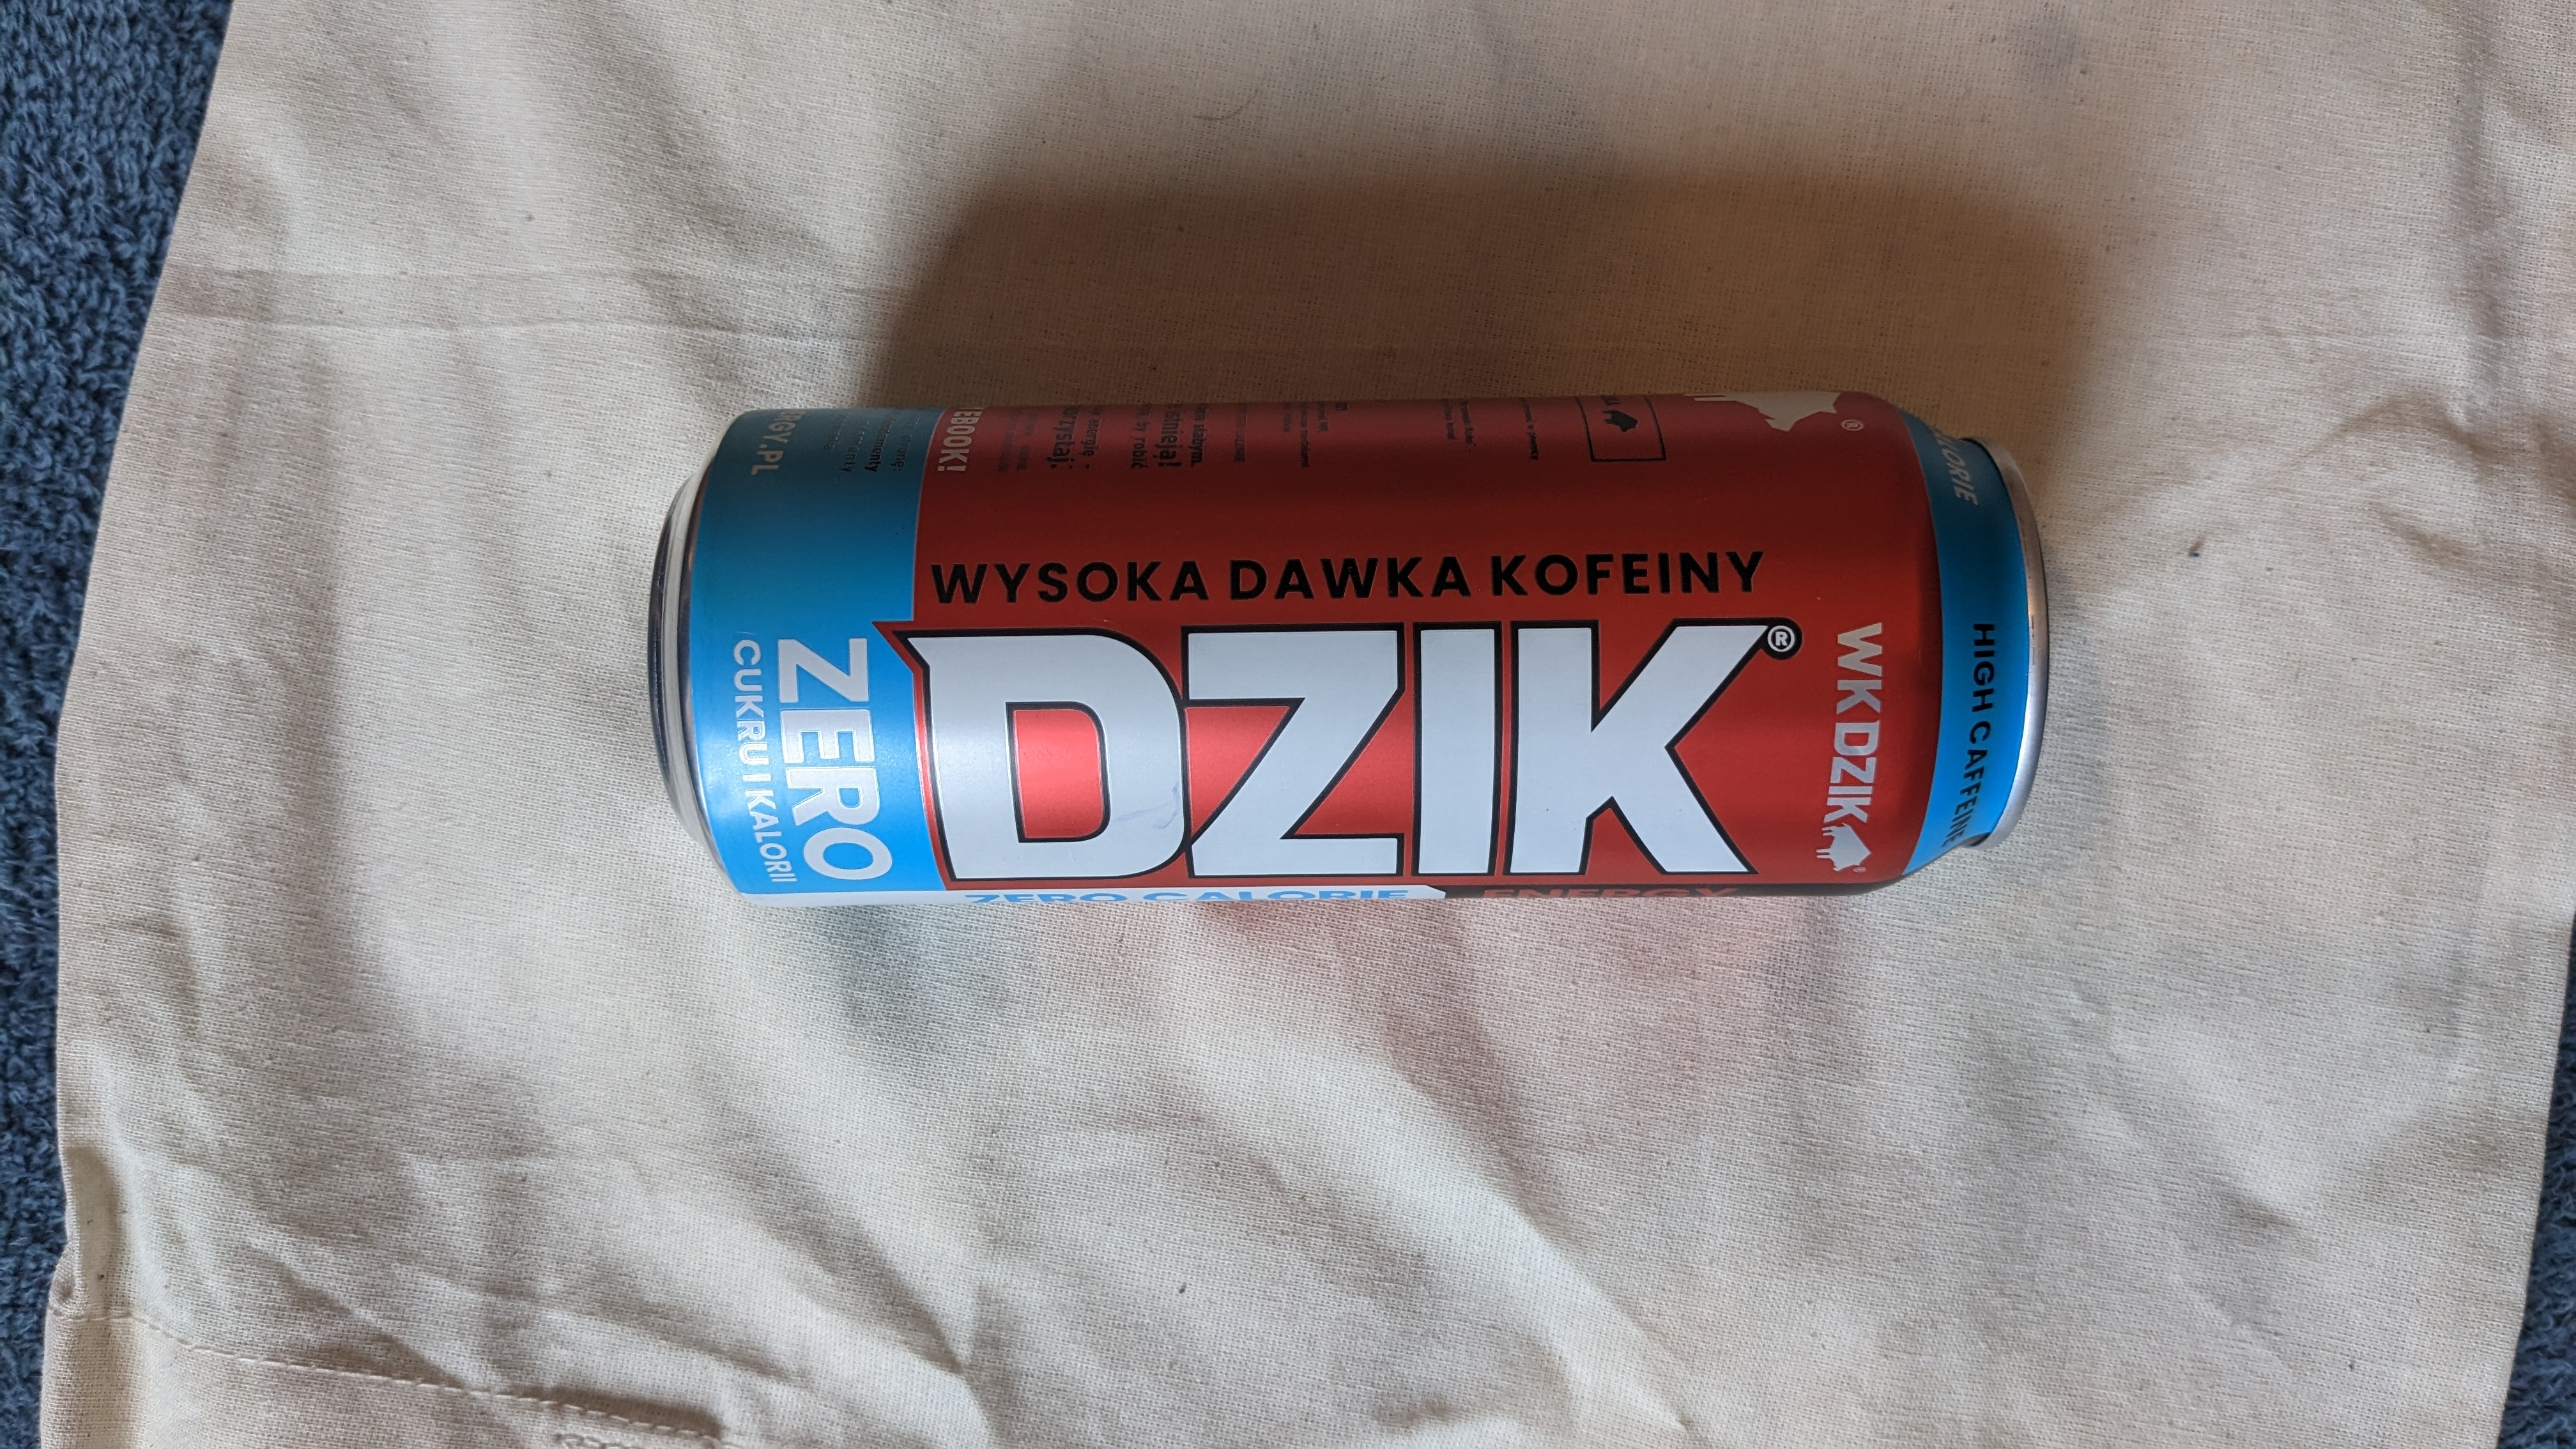dzik: (609, 393, 2102, 892)
